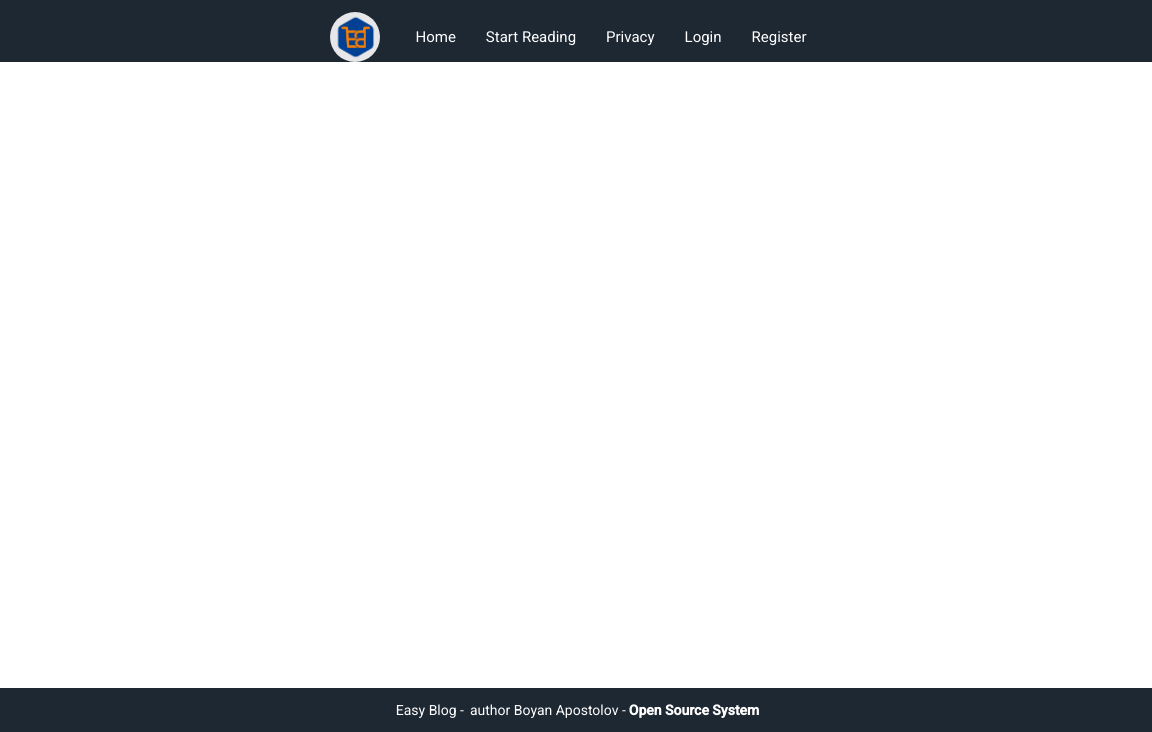
/Auth/Login tests › login form loads correctly
Click the link "Login" at [704, 37], box [685,28,722,46]
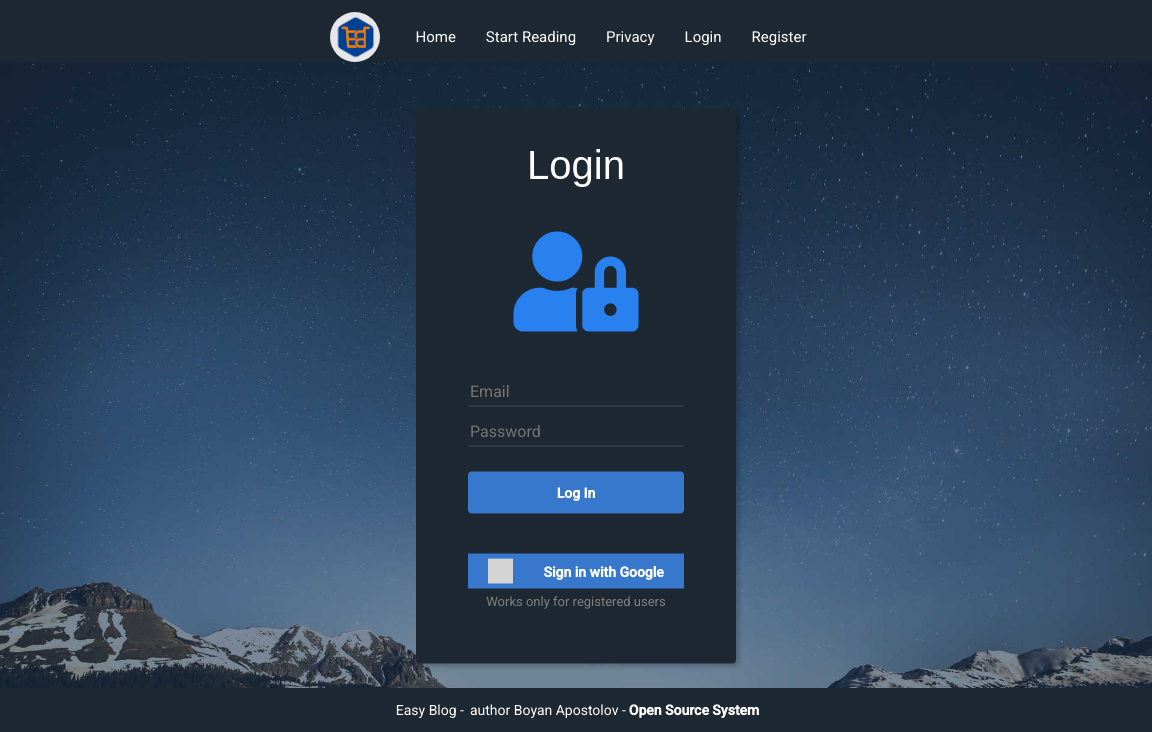
Now the number of headings is 1, box [456,149,696,181]
Now the number of buttons is 2, box [468,472,684,514]; [468,554,684,588]
